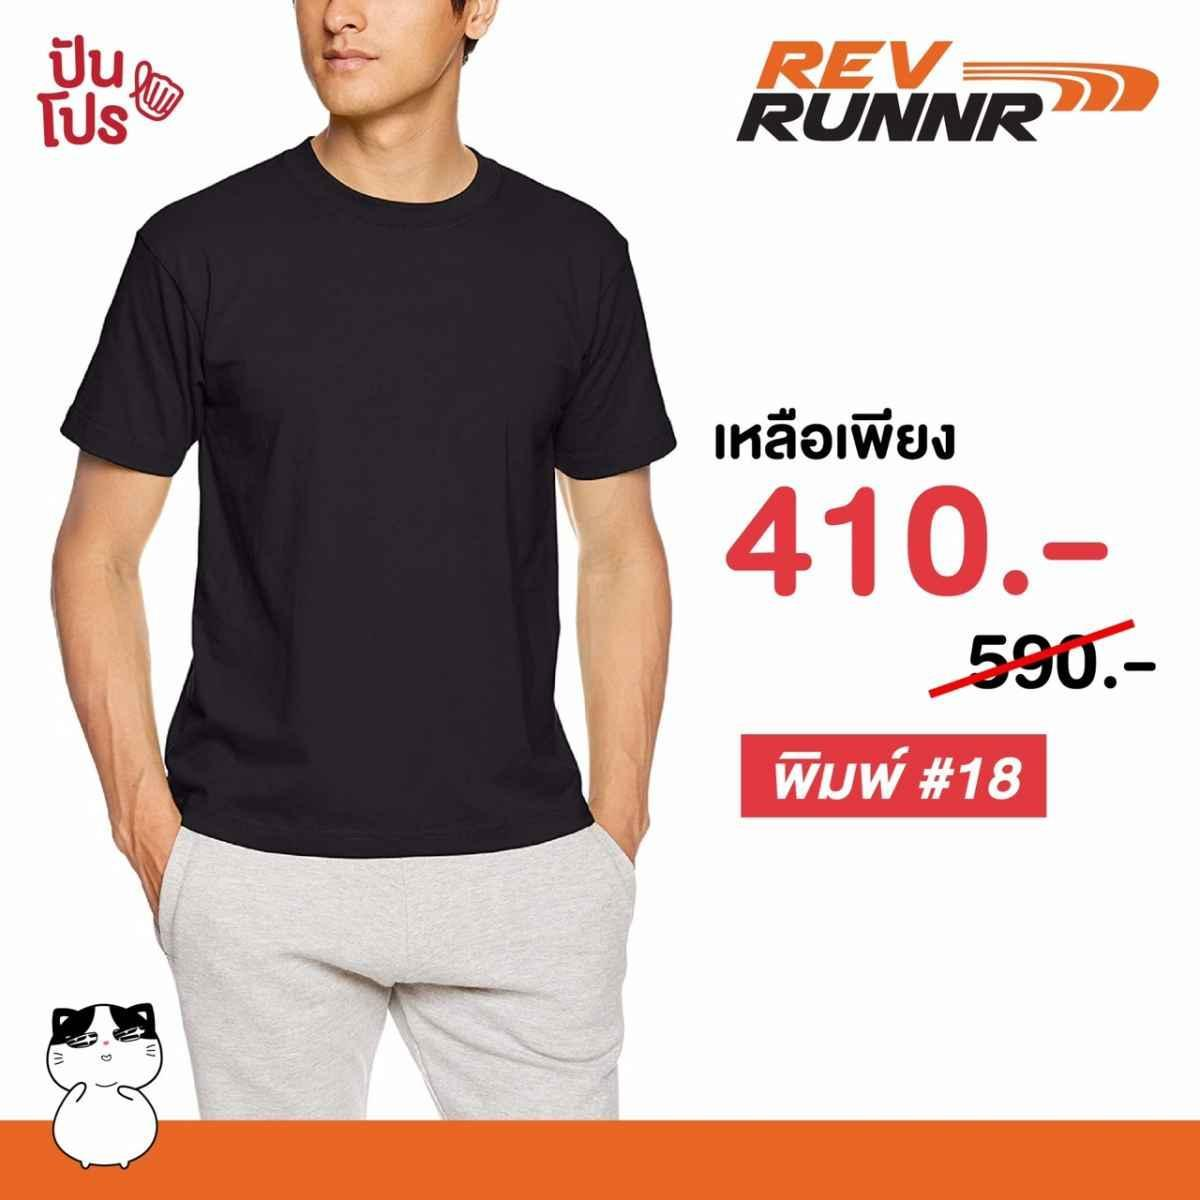Tshirt: (66, 141, 667, 856)
